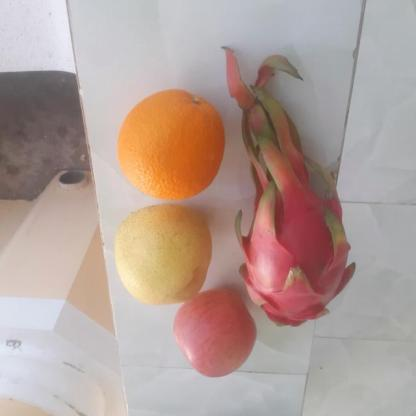apple: (168, 290, 260, 383)
orange: (110, 89, 228, 202)
pear: (112, 203, 218, 304)
pitaya: (238, 178, 364, 324)
